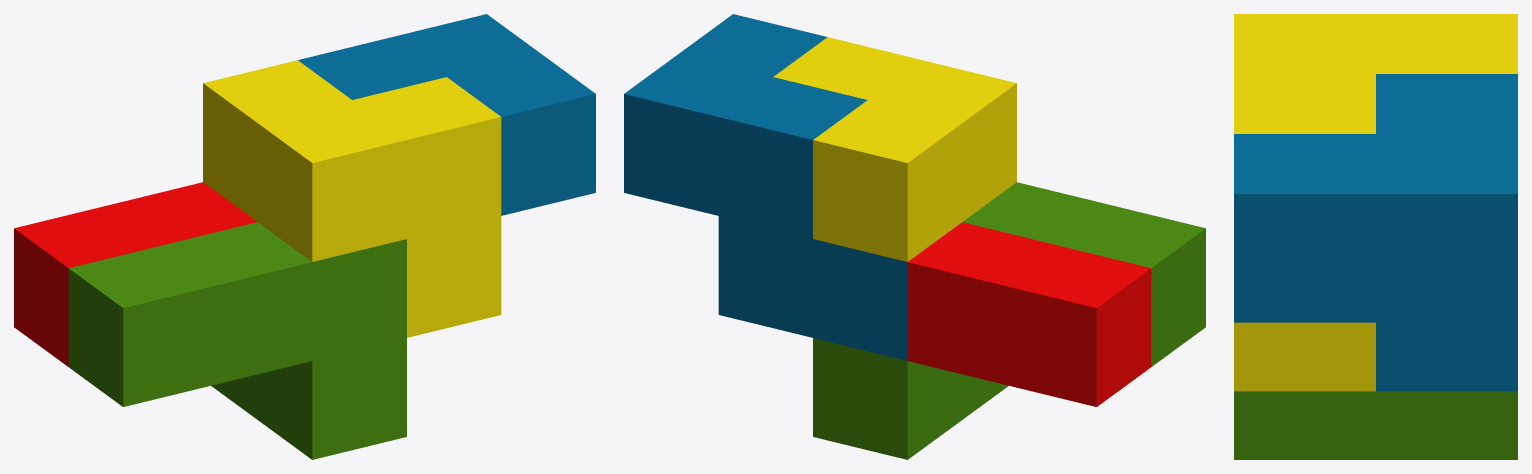
3 renders of one model, left to right at view 1: azimuth 30°, elevation 25°; view 2: azimuth 150°, elevation 25°; view 3: azimuth 270°, elevation 25°, orthographic. The views are drawn at different scales.
Parts seen in each view (by area): view 1: mergedBlocks(Clone); view 2: mergedBlocks(Clone); view 3: mergedBlocks(Clone).
Part boxes in pixels (<box>): mergedBlocks(Clone): <box>14,14,595,459</box>; mergedBlocks(Clone): <box>624,14,1205,459</box>; mergedBlocks(Clone): <box>1234,14,1517,459</box>.
Size of the model in its own units: 5 by 3 by 2.
4 materials, 4 textured.
